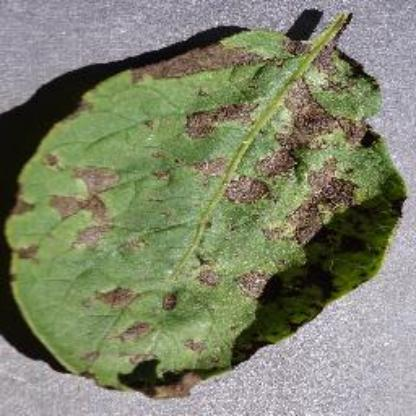Early-Blight: (5, 23, 406, 397)
